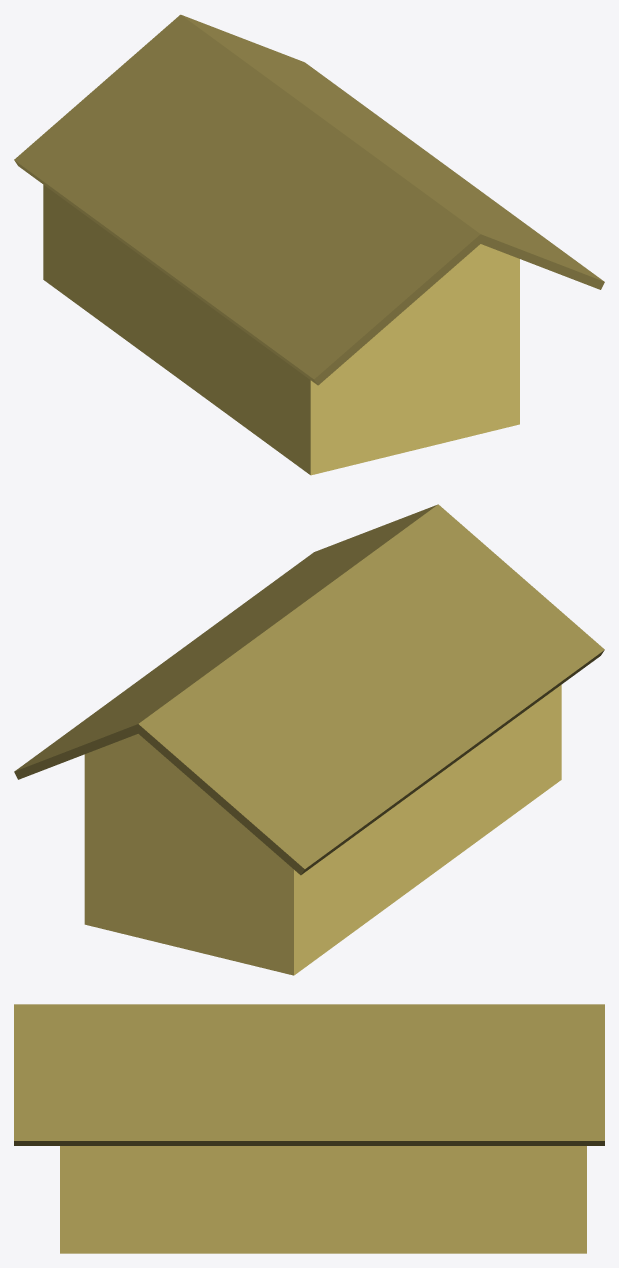
The model's file is result.glb.
3 views of the same model, one above another, from view 1: azimuth 30°, elevation 25°; view 2: azimuth 150°, elevation 25°; view 3: azimuth 270°, elevation 25° (orthographic).
Parts seen in each view (by area): view 1: f9103539-7081-4149-bcf4-c0be1ac3349c__undefined (×2), 0458888a-b44a-4c0a-89d2-87434e6c6397__undefined; view 2: f9103539-7081-4149-bcf4-c0be1ac3349c__undefined (×2), 0458888a-b44a-4c0a-89d2-87434e6c6397__undefined; view 3: f9103539-7081-4149-bcf4-c0be1ac3349c__undefined, 0458888a-b44a-4c0a-89d2-87434e6c6397__undefined.
Boxes of the visible parts, box(x1,y1,x2,y2) form: f9103539-7081-4149-bcf4-c0be1ac3349c__undefined (×2): box(14, 14, 604, 385); 0458888a-b44a-4c0a-89d2-87434e6c6397__undefined: box(43, 185, 519, 475); f9103539-7081-4149-bcf4-c0be1ac3349c__undefined (×2): box(14, 504, 604, 875); 0458888a-b44a-4c0a-89d2-87434e6c6397__undefined: box(84, 685, 561, 975); f9103539-7081-4149-bcf4-c0be1ac3349c__undefined: box(14, 1004, 604, 1145); 0458888a-b44a-4c0a-89d2-87434e6c6397__undefined: box(60, 1146, 586, 1253).
Bounding box in the file's own units: 912 × 667 × 1629.
